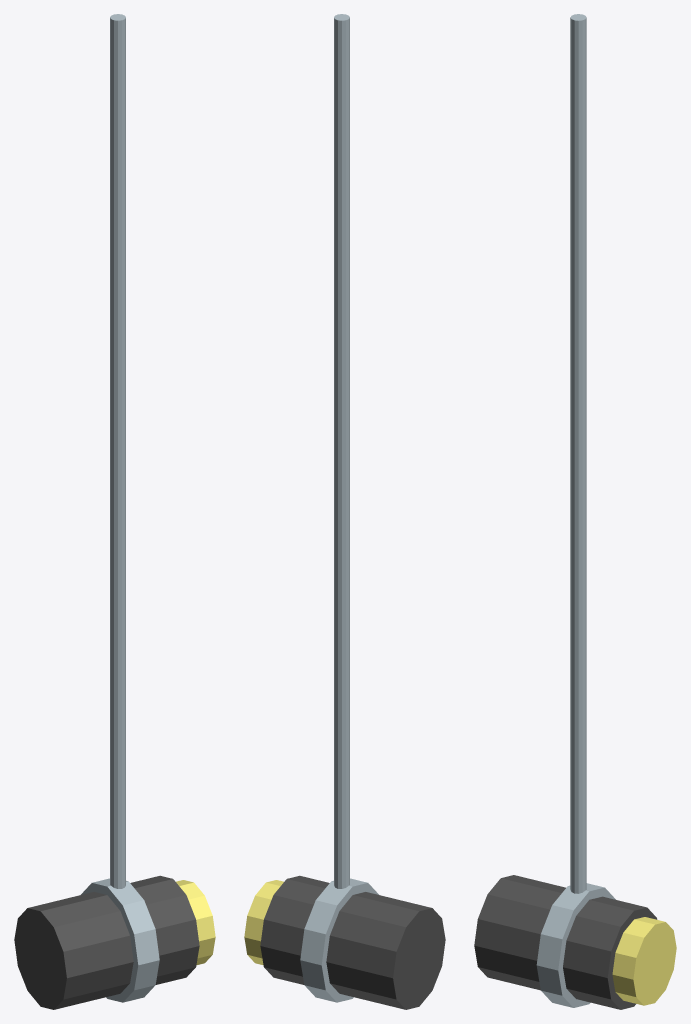
Rendered from Lamp_2.fbx.
3 renders of one model, left to right at view 1: azimuth 30°, elevation 25°; view 2: azimuth 150°, elevation 25°; view 3: azimuth 330°, elevation 25°, orthographic.
Visible parts, largest first — view 1: mesh1532719265, mesh1964874181, mesh1304056434, mesh61935849; view 2: mesh1532719265, mesh1964874181, mesh1304056434, mesh61935849; view 3: mesh1964874181, mesh1532719265, mesh61935849, mesh1304056434.
Part boxes in pixels (x1=…): mesh1532719265: x1=14, y1=875, x2=199, y2=1009; mesh1964874181: x1=110, y1=14, x2=125, y2=888; mesh1304056434: x1=81, y1=878, x2=159, y2=1002; mesh61935849: x1=176, y1=880, x2=215, y2=965; mesh1532719265: x1=260, y1=875, x2=445, y2=1009; mesh1964874181: x1=334, y1=14, x2=349, y2=888; mesh1304056434: x1=300, y1=878, x2=378, y2=1002; mesh61935849: x1=244, y1=880, x2=283, y2=965; mesh1964874181: x1=570, y1=14, x2=586, y2=893; mesh1532719265: x1=474, y1=875, x2=657, y2=1009; mesh61935849: x1=612, y1=917, x2=676, y2=1005; mesh1304056434: x1=536, y1=883, x2=615, y2=1007.
Size of the model in its own units: 18.51 by 113 by 12.94.
